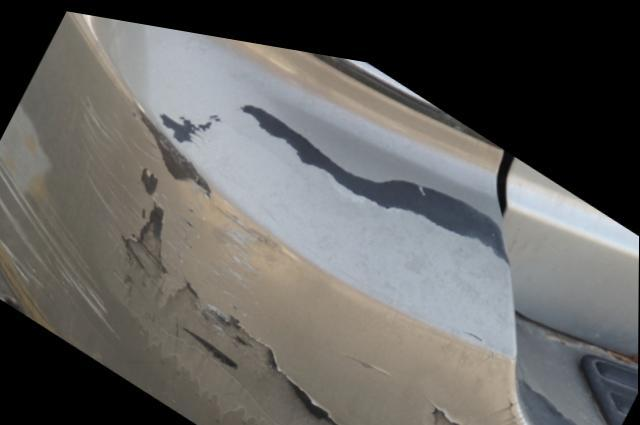scratch: (0, 87, 367, 425), (418, 382, 536, 425)
